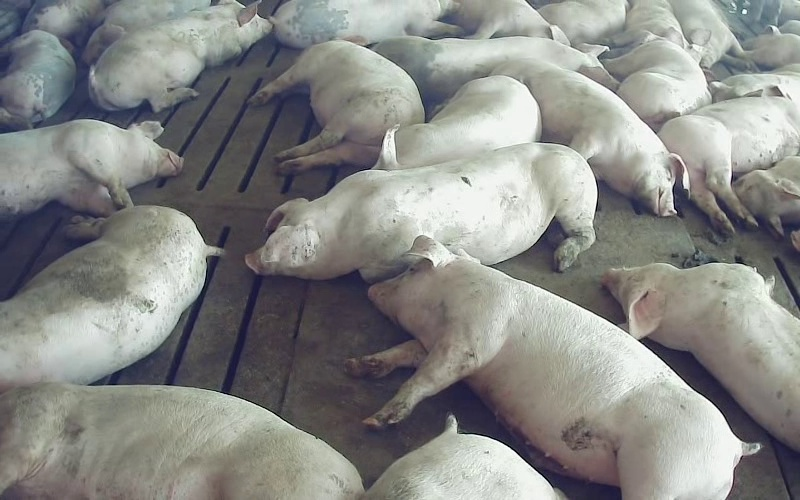pig: (246, 143, 595, 282), (0, 206, 223, 391), (602, 263, 799, 451), (492, 59, 688, 216), (249, 40, 424, 173), (89, 0, 271, 111), (658, 97, 799, 232), (374, 36, 617, 112), (0, 119, 182, 219), (373, 76, 540, 169), (604, 26, 711, 130), (0, 30, 75, 129)
